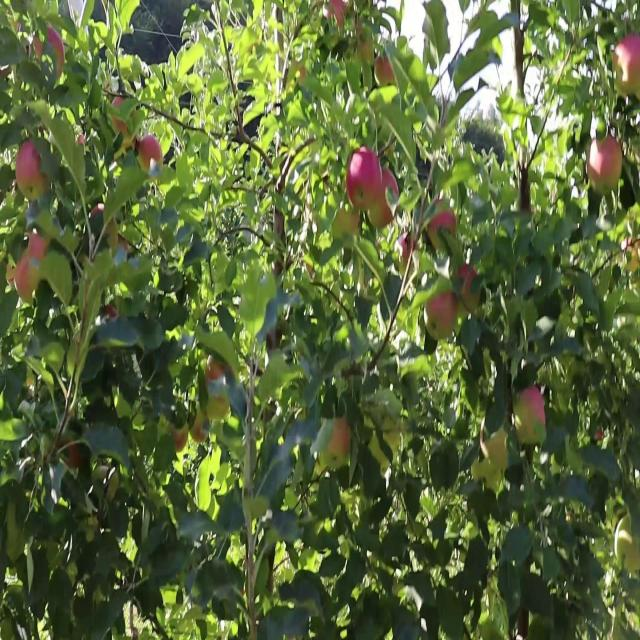apple: (512, 383, 548, 448), (588, 135, 624, 196), (348, 149, 381, 212), (368, 170, 400, 233), (16, 142, 50, 197), (612, 35, 640, 100), (428, 199, 458, 252), (480, 421, 510, 473), (428, 291, 459, 341), (324, 419, 352, 468), (16, 248, 40, 304), (456, 263, 482, 313), (332, 199, 362, 240), (40, 28, 65, 75), (32, 28, 60, 69), (16, 255, 39, 304), (56, 433, 83, 469), (28, 227, 51, 263), (140, 135, 164, 169), (472, 455, 495, 489), (624, 234, 640, 276), (376, 56, 396, 89), (208, 355, 230, 384), (328, 0, 349, 30), (112, 99, 127, 133), (192, 412, 207, 444), (176, 426, 188, 455), (292, 63, 308, 84), (104, 305, 118, 320), (92, 206, 105, 222)
